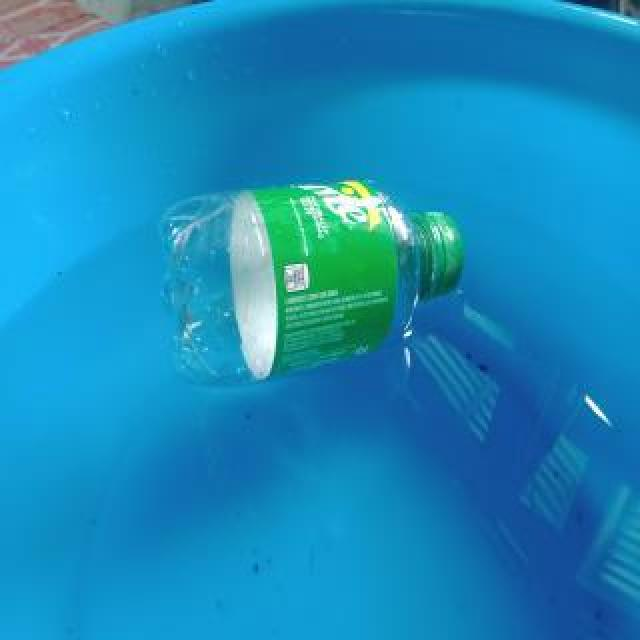bottle: (157, 175, 465, 389)
